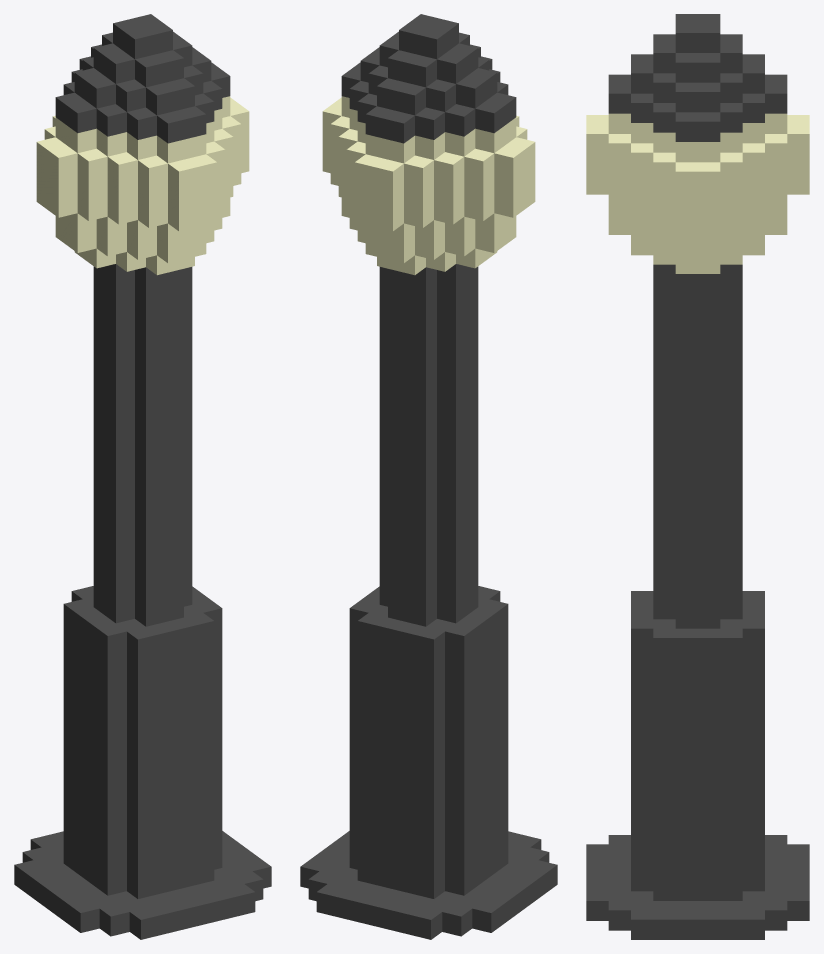
File: StreetLamp.fbx
The picture shows the model from 3 angles, left to right: view 1: azimuth 30°, elevation 25°; view 2: azimuth 150°, elevation 25°; view 3: azimuth 270°, elevation 25°; orthographic projection.
Visible parts, largest first — view 1: StreetLamp:Mesh; view 2: StreetLamp:Mesh; view 3: StreetLamp:Mesh.
Part boxes in pixels (left/top/right/bottom): StreetLamp:Mesh: left=14, top=14, right=271, bottom=939; StreetLamp:Mesh: left=300, top=14, right=557, bottom=939; StreetLamp:Mesh: left=586, top=14, right=809, bottom=939.
Size of the model in its own units: 0.5287 by 2.27 by 0.5287.
